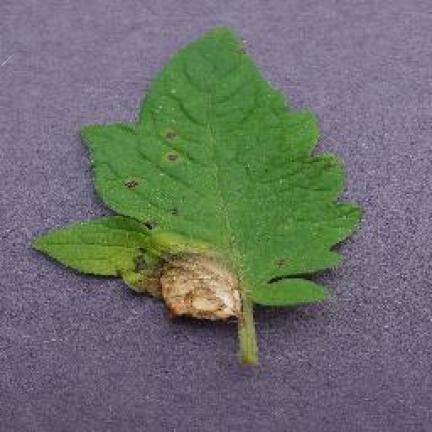disease: (31, 27, 366, 368)
leaf: (108, 230, 250, 319), (122, 221, 246, 322), (133, 255, 147, 270)
